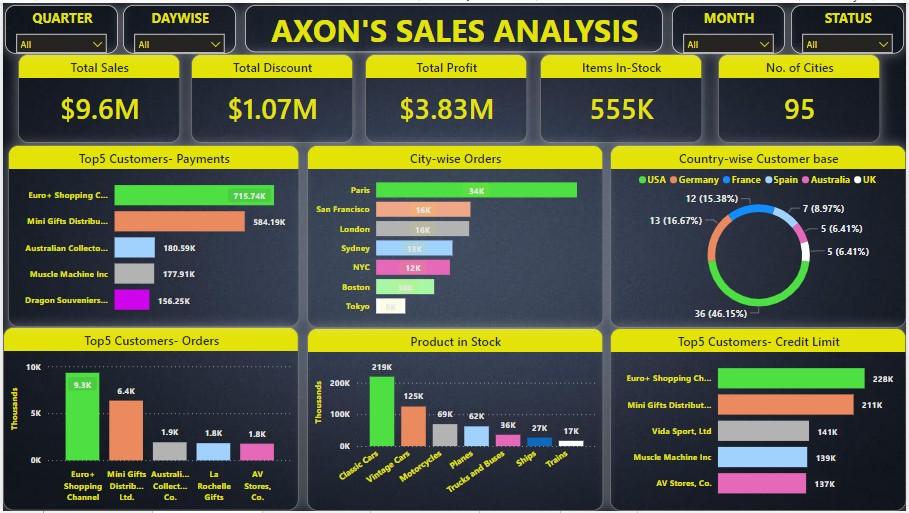

The page's visual inventory and layout, read from the dashboard file:
{"tool":"powerbi","page":{"name":"Dashboard 2","canvas":[1280,720],"ordinal":1},"visuals":[{"type":"donutChart","title":"Country-wise Customer base","fields":{"Category":["Customers.country"],"Y":["CountNonNull(Customers.customerNumber)"]},"box":[860.3,201.3,419.5,259.4],"z":0},{"type":"clusteredColumnChart","title":"Product in Stock","fields":{"Category":["Products.productLine"],"Y":["Measurables.In-stock"]},"box":[430.9,460.6,419.5,259.4],"z":1000},{"type":"clusteredBarChart","title":"Top5 Customers- Credit Limit","fields":{"Category":["Customers.customerName"],"Y":["Max(Customers.creditLimit)"]},"box":[860.3,460.6,419.5,259.4],"z":2000},{"type":"clusteredColumnChart","title":"Top5 Customers- Orders","fields":{"Category":["Customers.customerName"],"Y":["Measurables.Total Orders"]},"box":[0,459.7,419.4,260],"z":3000},{"type":"card","title":"Items In-Stock","fields":{"Values":["Measurables.In-stock"]},"box":[761.1,72.3,229.6,126.1],"z":4000},{"type":"card","title":"Total Sales","fields":{"Values":["Measurables.Total Sales"]},"box":[21.3,72.3,229.6,126.1],"z":5000},{"type":"card","title":"Total Profit","fields":{"Values":["Measurables.Total Profit"]},"box":[513.1,72.3,229.6,126.1],"z":6000},{"type":"card","title":"Total Discount","fields":{"Values":["Measurables.Total DIscount"]},"box":[266.5,72.3,229.6,126.1],"z":7000},{"type":"clusteredBarChart","title":"City-wise Orders","fields":{"Category":["Offices.city"],"Y":["Measurables.Total Orders"]},"box":[430.9,201.3,419.5,259.4],"z":8000},{"type":"card","title":"No. of Cities","fields":{"Values":["Count(Customers.city)"]},"box":[1013.4,72.3,229.6,126.1],"z":9000},{"type":"slicer","title":"STATUS","fields":{"Values":["Customers.country"]},"box":[1116.9,2.8,160.2,69.4],"z":10000},{"type":"slicer","title":"MONTH","fields":{"Values":["Dim_Date.Month Name"]},"box":[948.2,2.8,160.2,69.4],"z":11000},{"type":"slicer","title":"QUARTER","fields":{"Values":["Dim_Date.Quarter"]},"box":[2.8,2.8,160.2,69.4],"z":12000},{"type":"slicer","title":"DAYWISE","fields":{"Values":["Dim_Date.Dayname"]},"box":[170.1,2.8,160.2,69.4],"z":13000},{"type":"textbox","title":"AXON''S SALES ANALYSIS","box":[343,2.8,592.4,66.6],"z":14000},{"type":"barChart","title":"Top5 Customers- Payments","fields":{"Category":["Customers.customerName"],"Y":["Sum(Payments.amount)"]},"box":[6.7,201.3,412.7,258.3],"z":15000}]}

Visuals, with their boxes in screenshot pixels (x1, y1, x2, y2), scaled from the page's 1280x720 canvas onto the 909x513 screenshot:
"Country-wise Customer base" donutChart: box=[611, 143, 908, 328]
"Product in Stock" clusteredColumnChart: box=[306, 328, 604, 512]
"Top5 Customers- Credit Limit" clusteredBarChart: box=[611, 328, 908, 512]
"Top5 Customers- Orders" clusteredColumnChart: box=[0, 328, 298, 512]
"Items In-Stock" card: box=[540, 52, 704, 141]
"Total Sales" card: box=[15, 52, 178, 141]
"Total Profit" card: box=[364, 52, 527, 141]
"Total Discount" card: box=[189, 52, 352, 141]
"City-wise Orders" clusteredBarChart: box=[306, 143, 604, 328]
"No. of Cities" card: box=[720, 52, 883, 141]
"STATUS" slicer: box=[793, 2, 907, 51]
"MONTH" slicer: box=[673, 2, 787, 51]
"QUARTER" slicer: box=[2, 2, 116, 51]
"DAYWISE" slicer: box=[121, 2, 235, 51]
"AXON''S SALES ANALYSIS" textbox: box=[244, 2, 664, 49]
"Top5 Customers- Payments" barChart: box=[5, 143, 298, 327]
